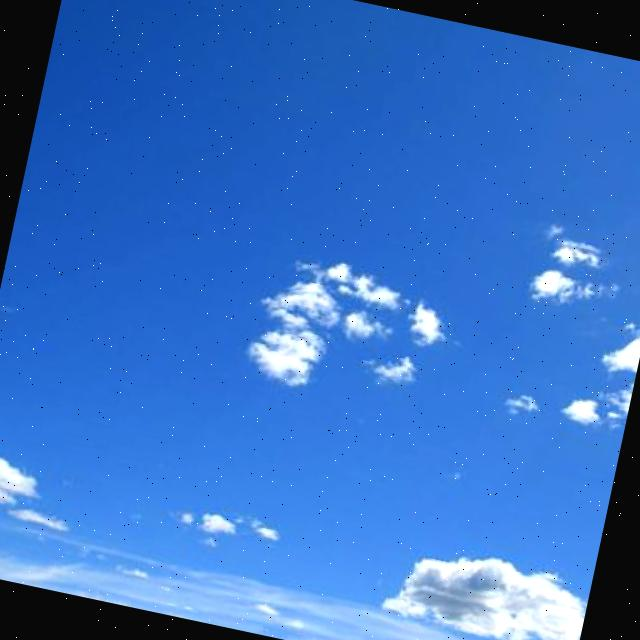Cs: (147, 141, 640, 640)
